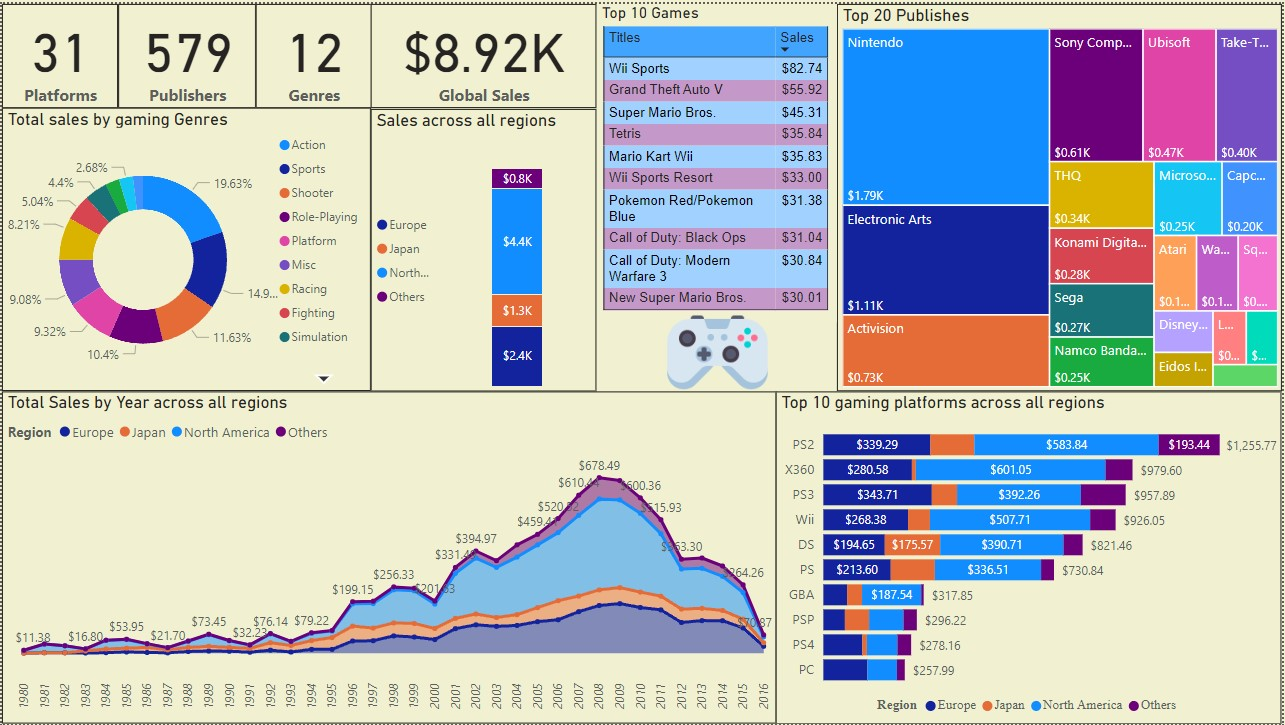

The dashboard page shown, as its layout file describes it:
{"tool":"powerbi","page":{"name":"Page 1","canvas":[1280,720],"ordinal":0},"visuals":[{"type":"card","fields":{"Values":["Count(vgsales.Platform)"]},"box":[0,0,115.8,103.7],"z":0},{"type":"card","fields":{"Values":["Count(vgsales.Publisher)"]},"box":[115.8,0,137.5,103.7],"z":1000},{"type":"card","fields":{"Values":["Count(vgsales.Genre)"]},"box":[253.3,0,115.8,103.7],"z":2000},{"type":"donutChart","title":"Total sales by gaming Genres","fields":{"Y":["Sum(vgsales.Sales)"],"Category":["vgsales.Genre"]},"box":[0,103.7,369,283.4],"z":3000},{"type":"card","fields":{"Values":["Sum(vgsales.Sales)"]},"box":[369,0,225.5,103.7],"z":4000},{"type":"columnChart","title":"Sales across all regions","fields":{"Y":["Sum(vgsales.Sales)"],"Series":["vgsales.Region"]},"box":[369,104.9,225.5,282.2],"z":5000},{"type":"stackedAreaChart","title":"Total Sales by Year across all regions","fields":{"Category":["vgsales.Year"],"Y":["Sum(vgsales.Sales)"],"Series":["vgsales.Region"]},"box":[0,387.1,774.3,331.7],"z":6000},{"type":"barChart","title":"Top 10 gaming platforms across all regions","fields":{"Category":["vgsales.Platform"],"Y":["Sum(vgsales.Sales)"],"Series":["vgsales.Region"]},"box":[774.3,387.1,505.3,332.9],"z":7000},{"type":"treemap","title":"Top 20 Publishes","fields":{"Group":["vgsales.Publisher"],"Values":["Sum(vgsales.Sales)"]},"box":[834.6,0,445,387.1],"z":8000},{"type":"tableEx","title":"Top 10 Games","fields":{"Values":["vgsales.Name","Sum(vgsales.Sales)"]},"box":[594.6,0,240,318.4],"z":9000},{"type":"image","box":[656.1,289.4,118.2,117],"z":10001}]}

Visuals, with their boxes in screenshot pixels (x1, y1, x2, y2), scaled from the page's 1280x720 canvas onto the 1285x725 screenshot:
card - Count(vgsales.Platform): x1=0 y1=0 x2=116 y2=104
card - Count(vgsales.Publisher): x1=116 y1=0 x2=254 y2=104
card - Count(vgsales.Genre): x1=254 y1=0 x2=371 y2=104
"Total sales by gaming Genres" donutChart: x1=0 y1=104 x2=370 y2=390
card - Sum(vgsales.Sales): x1=370 y1=0 x2=597 y2=104
"Sales across all regions" columnChart: x1=370 y1=106 x2=597 y2=390
"Total Sales by Year across all regions" stackedAreaChart: x1=0 y1=390 x2=777 y2=724
"Top 10 gaming platforms across all regions" barChart: x1=777 y1=390 x2=1284 y2=724
"Top 20 Publishes" treemap: x1=838 y1=0 x2=1284 y2=390
"Top 10 Games" tableEx: x1=597 y1=0 x2=838 y2=321
image: x1=659 y1=291 x2=777 y2=409
